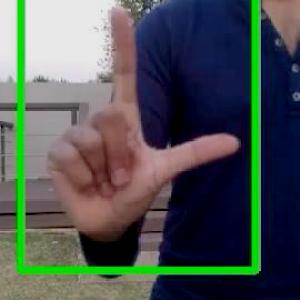land_hand: (33, 0, 251, 252)
